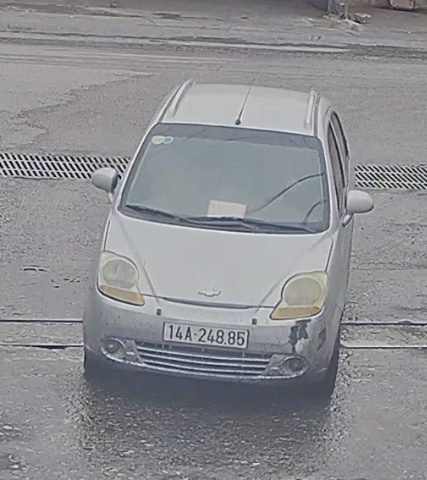vehicle plate: (157, 317, 254, 352)
